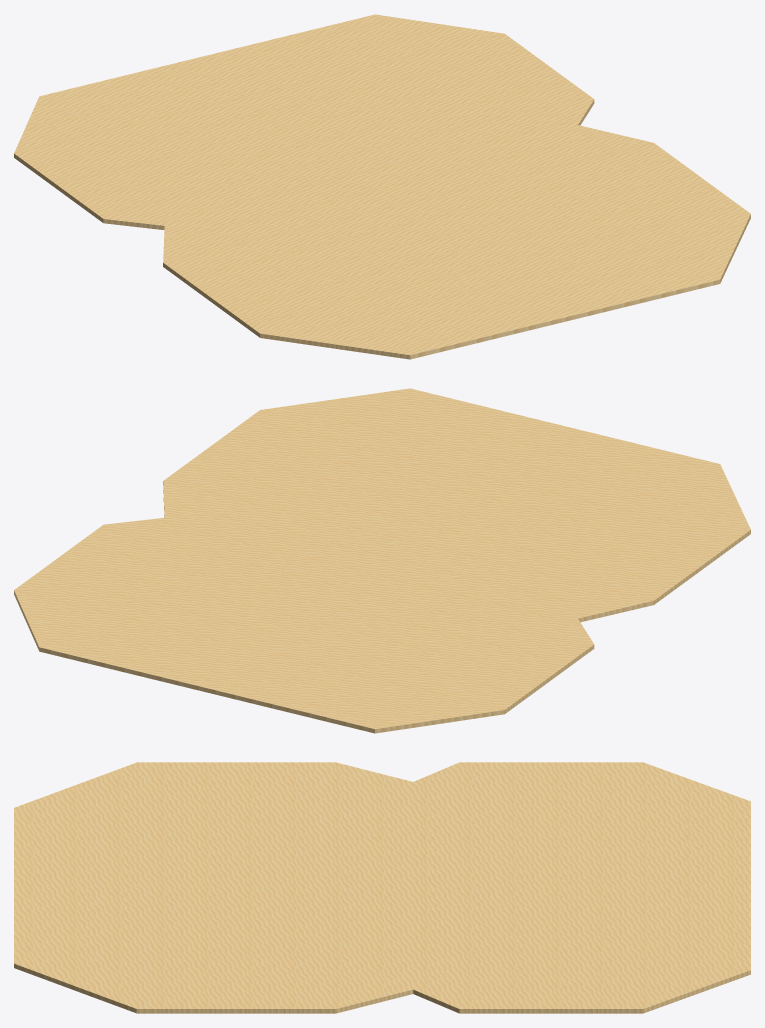
The model's file is seabed-25-CEcUCqyU.glb.
3 views of the same model, one above another, from view 1: azimuth 30°, elevation 25°; view 2: azimuth 150°, elevation 25°; view 3: azimuth 270°, elevation 25° (orthographic). The views are drawn at different scales.
Parts seen in each view (by area): view 1: SW_SandShelf; view 2: SW_SandShelf; view 3: SW_SandShelf.
Part boxes in pixels (bbox=[...]): SW_SandShelf: bbox=[14, 14, 750, 359]; SW_SandShelf: bbox=[14, 388, 750, 733]; SW_SandShelf: bbox=[14, 762, 750, 1013].
Size of what is drawn, in the model's own units: 38 by 0.32 by 48.
1 material, 1 textured.
